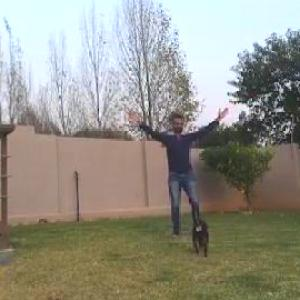takeoff: (127, 108, 226, 231)
